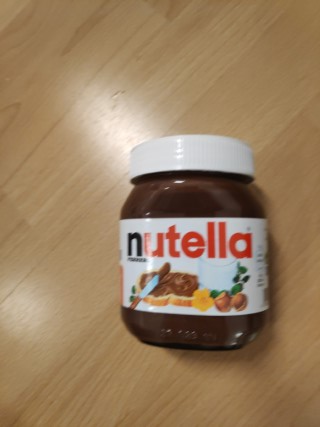nutella: (117, 132, 272, 353)
